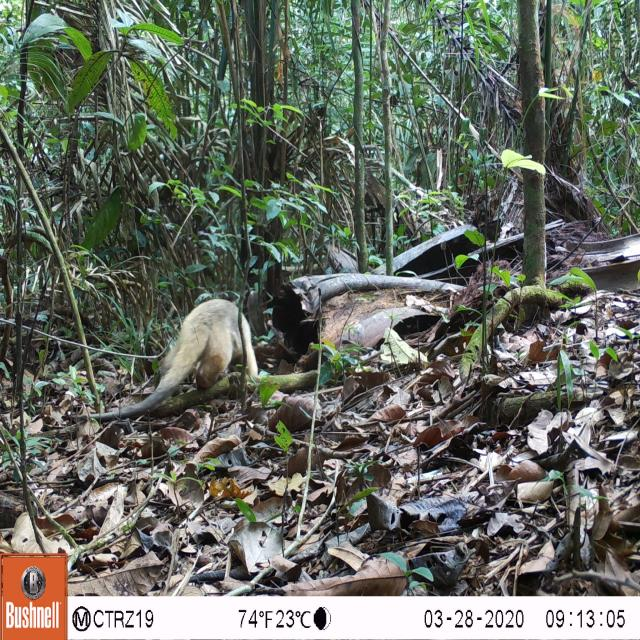Southern Tamandua: (82, 282, 262, 423)
